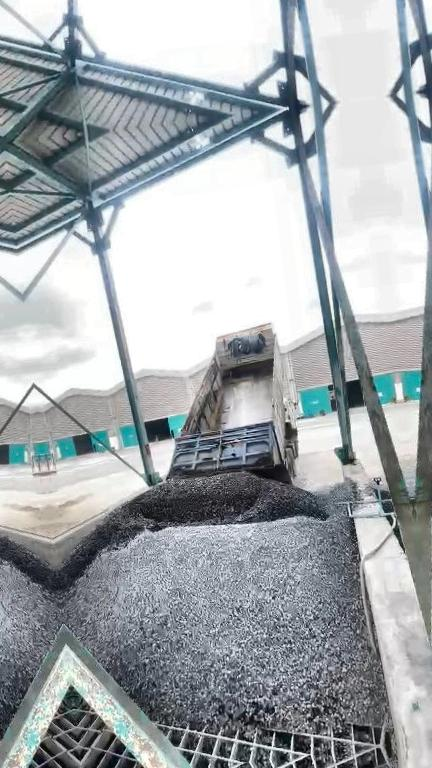gravel: (59, 476, 386, 732), (58, 472, 329, 590)
sand: (49, 498, 85, 537)
